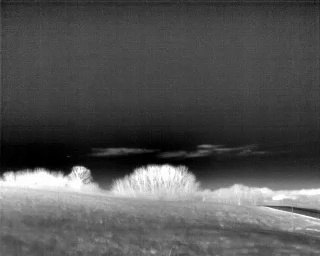AIRPLANE: (66, 154, 71, 158)
